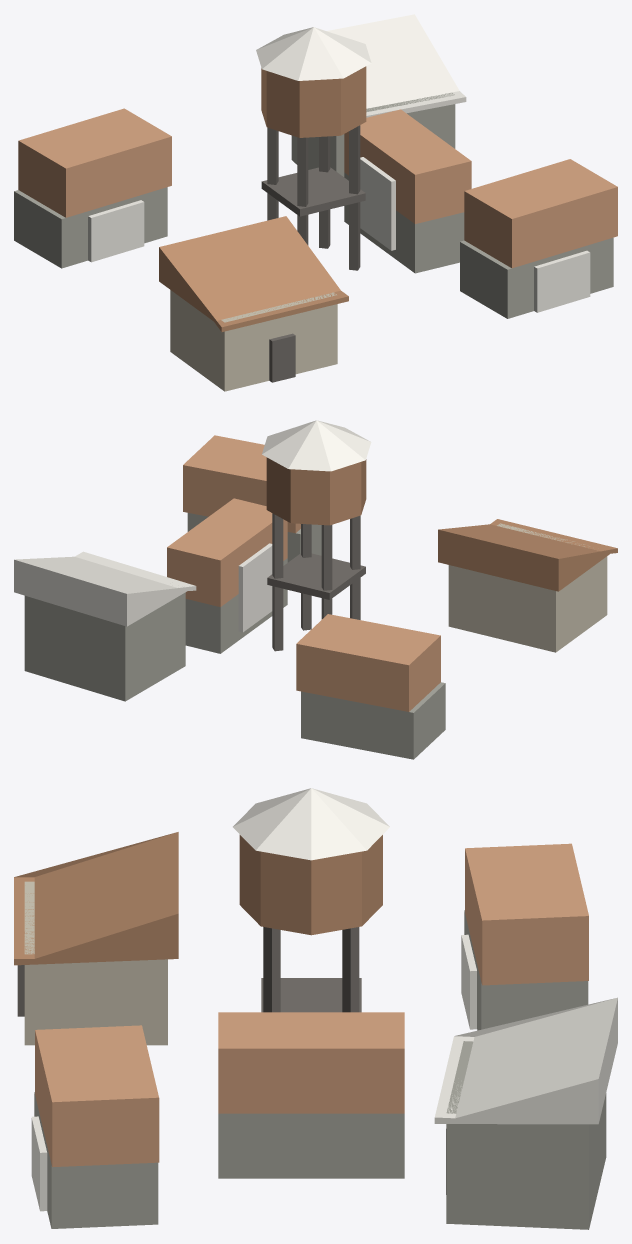
File: town.glb
3 views of the same model, one above another, from view 1: azimuth 30°, elevation 25°; view 2: azimuth 150°, elevation 25°; view 3: azimuth 270°, elevation 25° (orthographic). The views are drawn at different scales.
Visible parts, largest first — view 1: scrap_town; view 2: scrap_town; view 3: scrap_town.
Part boxes in pixels (box(x1,y1,x2,y2)): scrap_town: box(14, 14, 617, 391); scrap_town: box(14, 420, 617, 759); scrap_town: box(14, 788, 617, 1229).
Size of the model in its own units: 0.8808 by 0.48 by 0.8429.
